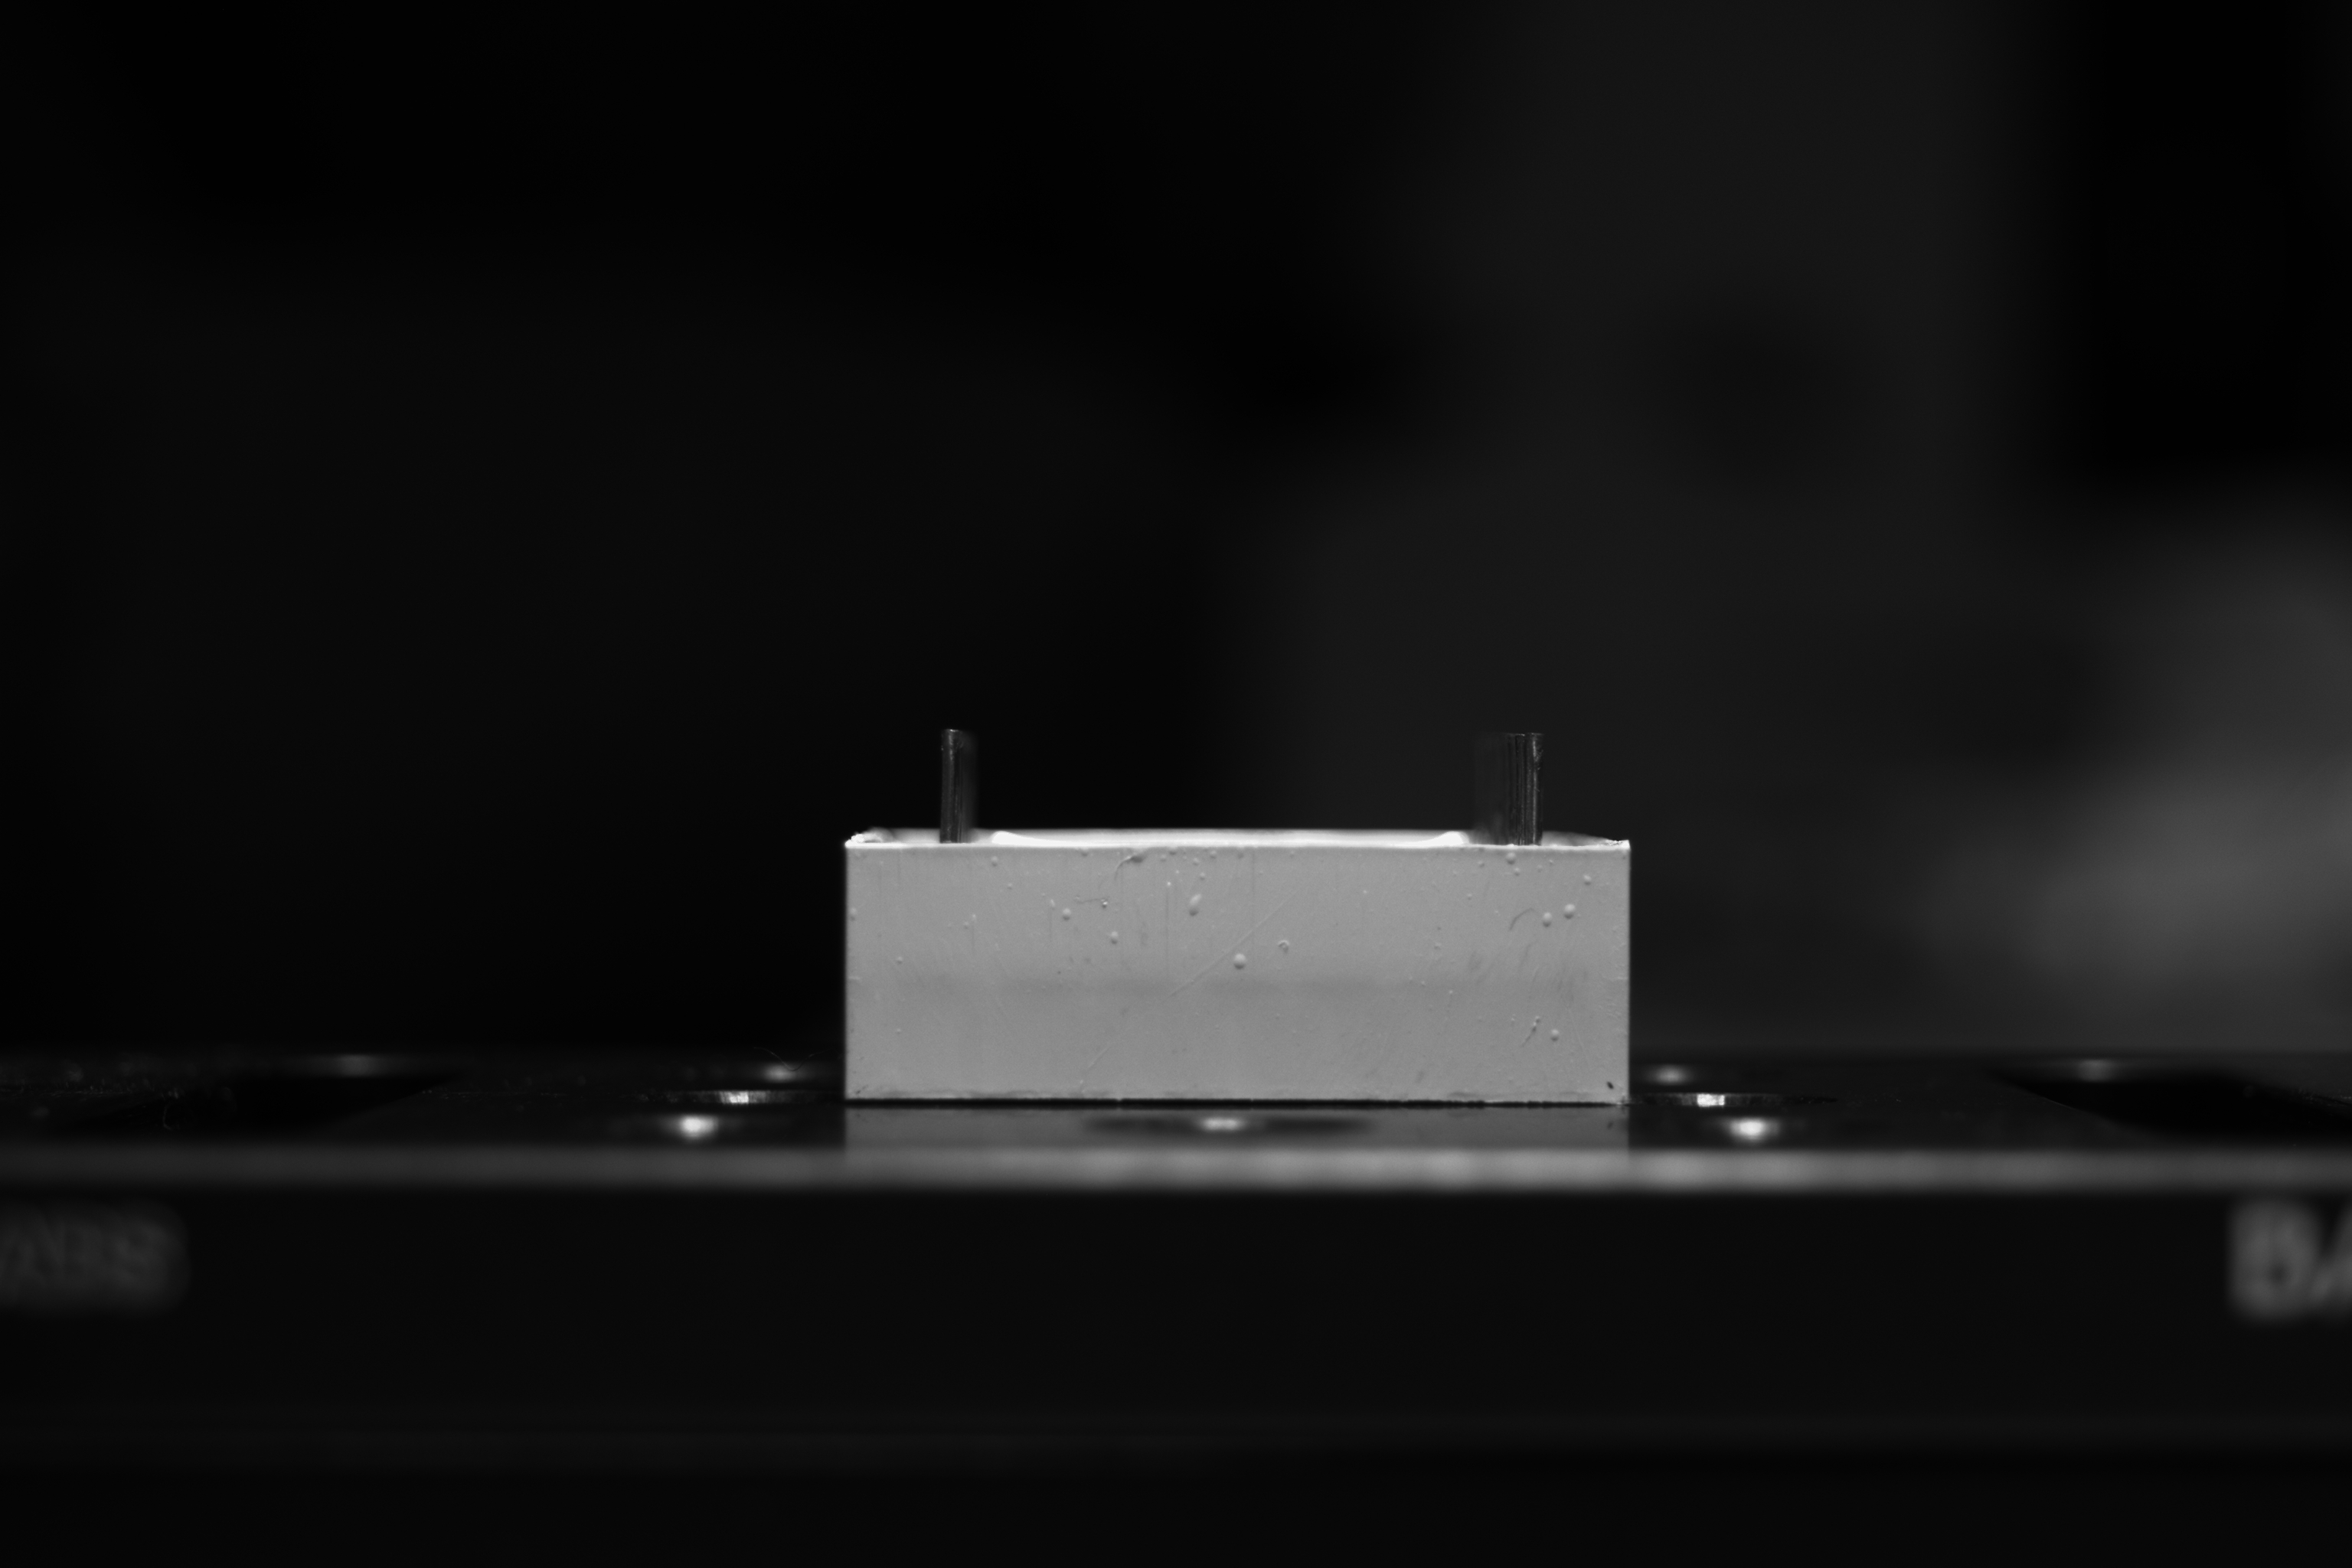glue: (1158, 843, 1249, 917), (1115, 847, 1146, 880), (1542, 905, 1578, 927), (1046, 898, 1073, 920), (1503, 850, 1522, 875), (1234, 952, 1248, 969), (1109, 931, 1120, 945), (849, 906, 857, 922), (1099, 898, 1109, 908), (1550, 1029, 1559, 1041), (1582, 875, 1592, 884), (992, 856, 999, 866)
